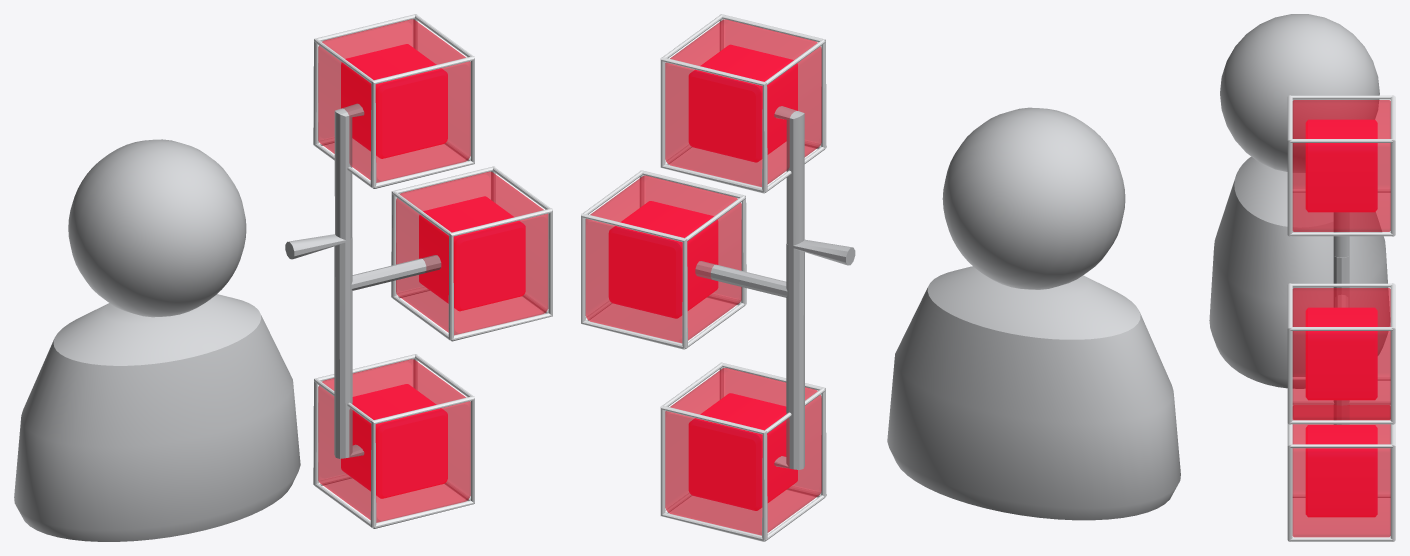
File: 38-user-role.glb
3 renders of one model, left to right at view 1: azimuth 30°, elevation 25°; view 2: azimuth 150°, elevation 25°; view 3: azimuth 270°, elevation 25°, orthographic. The views are drawn at different scales.
Parts seen in each view (by area): view 1: BC satin iron, BC ruby optical glass, BC internal ruby light, BC polished iron bevel; view 2: BC satin iron, BC ruby optical glass, BC internal ruby light, BC polished iron bevel; view 3: BC satin iron, BC ruby optical glass, BC internal ruby light, BC polished iron bevel.
Part boxes in pixels (x1,y1,x2,y2): BC satin iron: (14,103,441,541); BC ruby optical glass: (318,19,548,522); BC internal ruby light: (341,44,525,498); BC polished iron bevel: (313,14,552,528); BC satin iron: (695,106,1180,520); BC ruby optical glass: (585,19,821,535); BC internal ruby light: (608,44,797,510); BC polished iron bevel: (581,14,826,541); BC satin iron: (1209,14,1389,424); BC ruby optical glass: (1292,100,1390,537); BC internal ruby light: (1305,119,1377,517); BC polished iron bevel: (1287,95,1395,541).
Size of the model in its own units: 1.95 by 1.6 by 0.6686.
